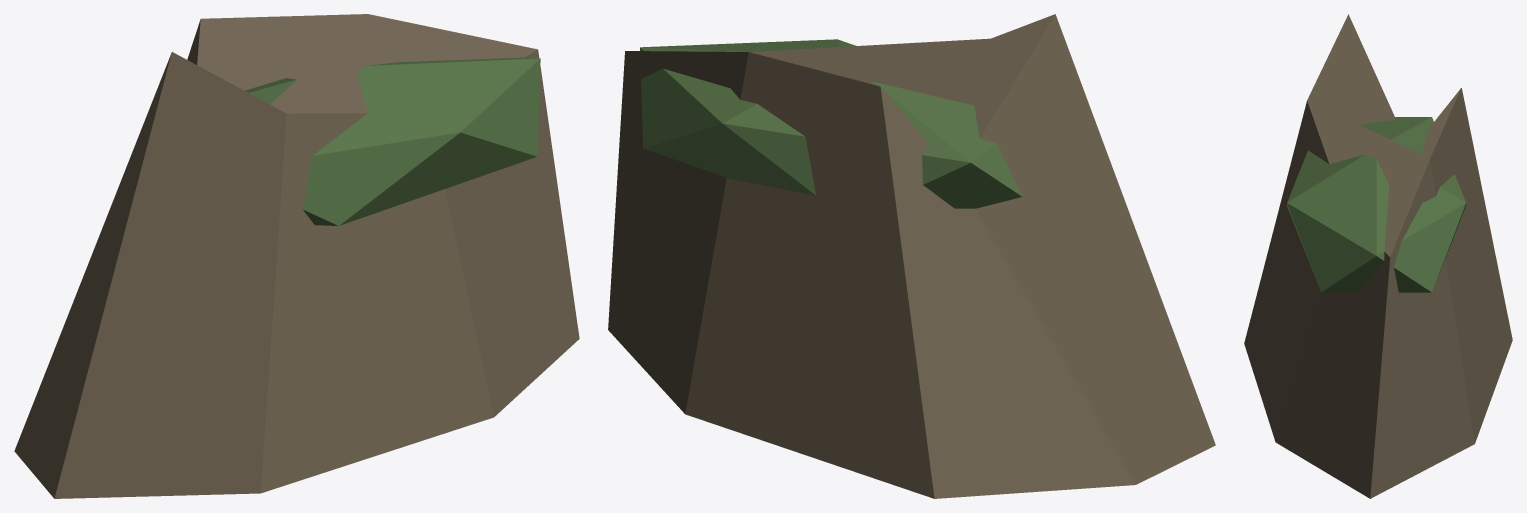
The model's file is map-boundaries-v5__village_11.glb.
The picture shows the model from 3 angles, left to right: view 1: azimuth 30°, elevation 25°; view 2: azimuth 150°, elevation 25°; view 3: azimuth 270°, elevation 25°; orthographic projection. The views are drawn at different scales.
Parts seen in each view (by area): view 1: village_11; view 2: village_11; view 3: village_11.
Part boxes in pixels (bbox=[...]): village_11: bbox=[14, 14, 579, 498]; village_11: bbox=[608, 14, 1215, 498]; village_11: bbox=[1244, 14, 1512, 498].
Size of the model in its own units: 1.47 by 1.01 by 0.7653.
